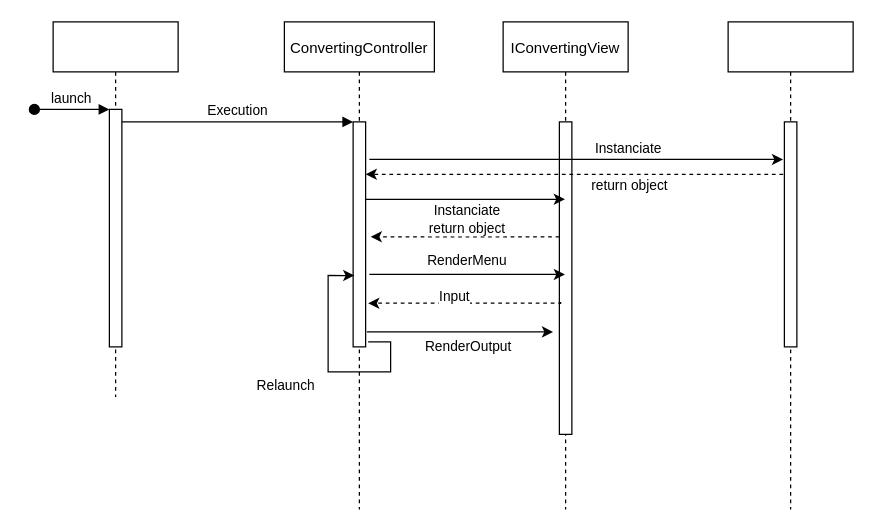
This 875x531 diagram has some shape labels left out. The box of each missing label's shape, as (x1, y1, x2, y2) in pixels:
Convertable: (727, 21, 853, 509)
Program: (52, 21, 178, 397)
